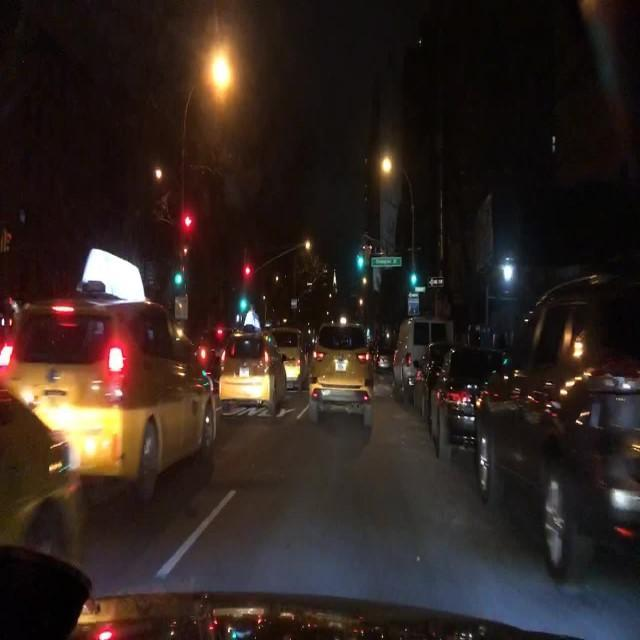normal: (7, 250, 223, 499), (472, 369, 640, 580), (215, 327, 287, 416), (393, 317, 457, 406), (266, 327, 315, 392)
